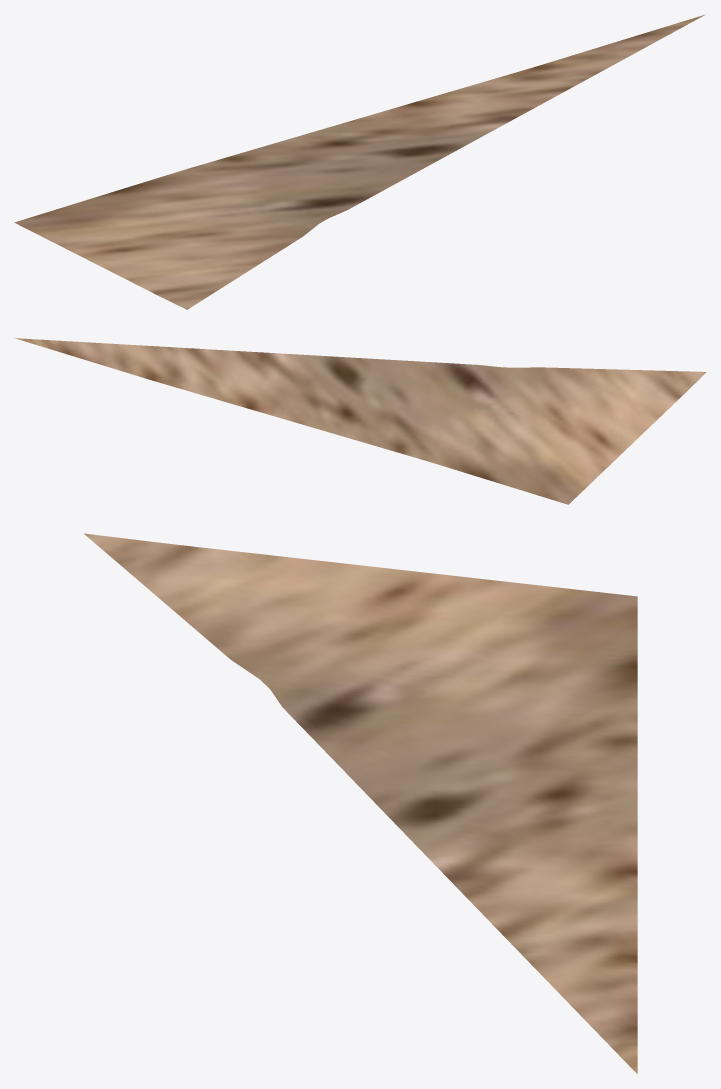
3 renders of one model, top to bottom at view 1: azimuth 30°, elevation 25°; view 2: azimuth 150°, elevation 25°; view 3: azimuth 270°, elevation 25°, orthographic. The views are drawn at different scales.
Size of the model in its own units: 1.58 by 0.0856 by 0.6824.
Materials: 1 (1 with a texture image).
